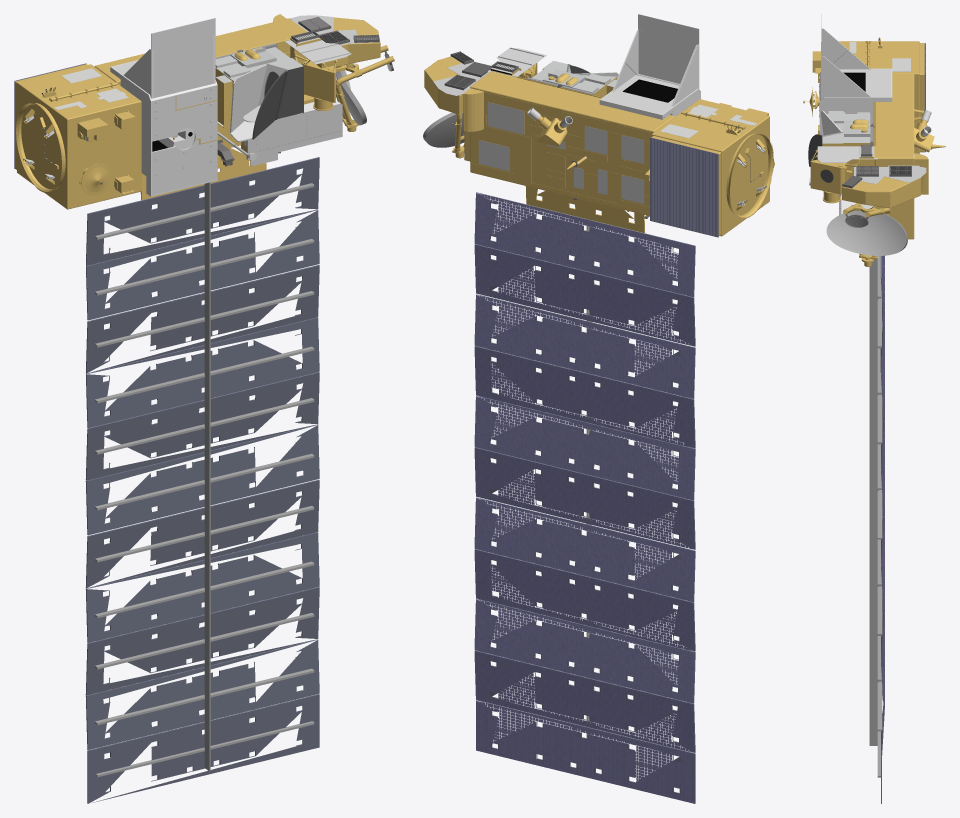
Rendered from Aura (D).glb.
3 renders of one model, left to right at view 1: azimuth 30°, elevation 25°; view 2: azimuth 150°, elevation 25°; view 3: azimuth 270°, elevation 25°, orthographic. The views are drawn at different scales.
Parts seen in each view (by area): view 1: Layer_0, Layer_1; view 2: Layer_0, Layer_1; view 3: Layer_1, Layer_0.
Part boxes in pixels (<box>): Layer_0: <box>85,148,319,803</box>; Layer_1: <box>14,14,394,209</box>; Layer_0: <box>474,186,695,803</box>; Layer_1: <box>423,14,774,237</box>; Layer_1: <box>803,14,945,266</box>; Layer_0: <box>869,132,884,803</box>.
Bounding box in the file's own units: 8.72 × 18.64 × 3.44.
